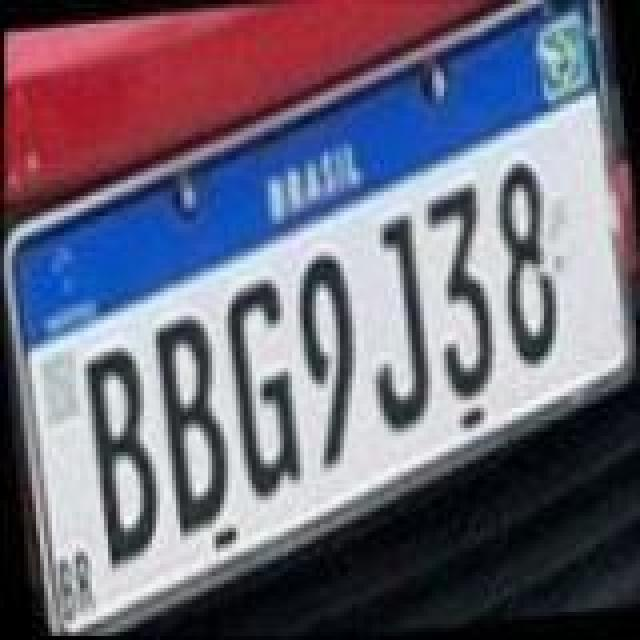3: (416, 182, 508, 410)
8: (482, 154, 570, 374)
9: (286, 244, 374, 472)
B: (76, 338, 172, 574), (144, 306, 240, 542)
G: (212, 272, 308, 504)
J: (350, 212, 438, 444)
